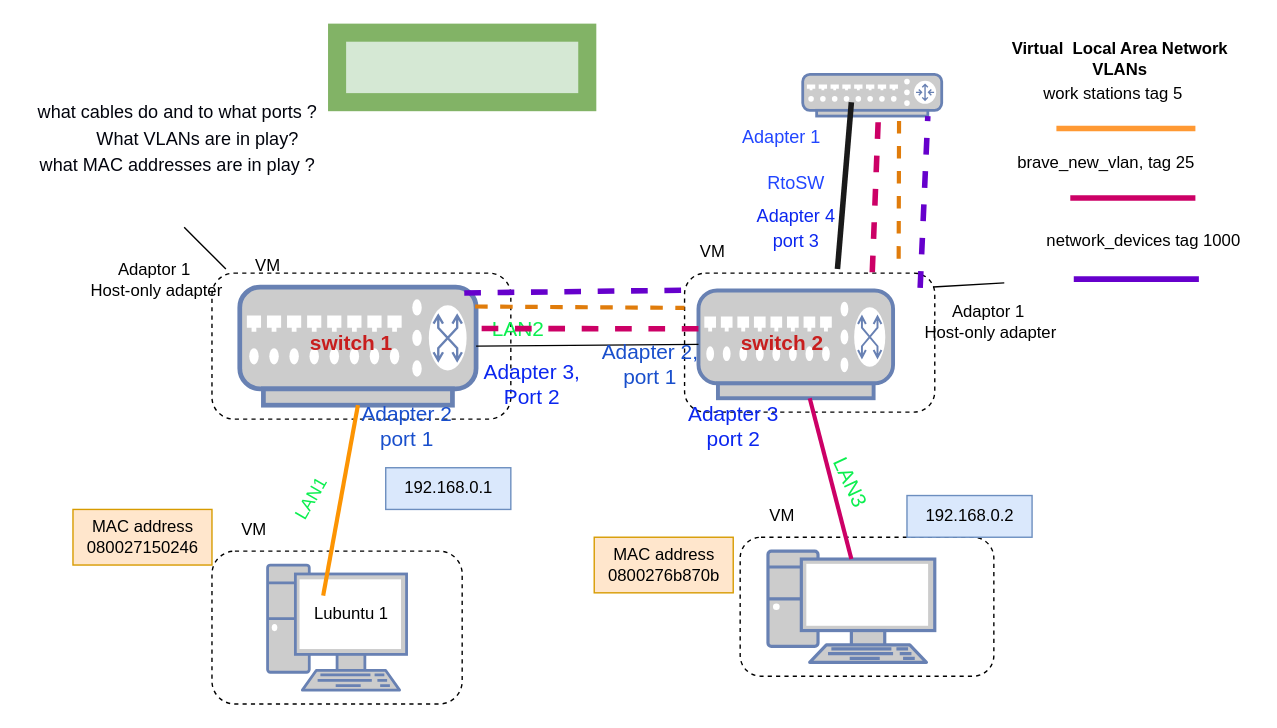
Image size: 1277x728. Some labels were removed from this diagram. Each missing label, with the box of its shape:
E04 PhysicalTopology Drawing: (327, 23, 596, 111)
Lubuntu 2: (766, 549, 935, 663)
ROUTER: (801, 72, 942, 117)
